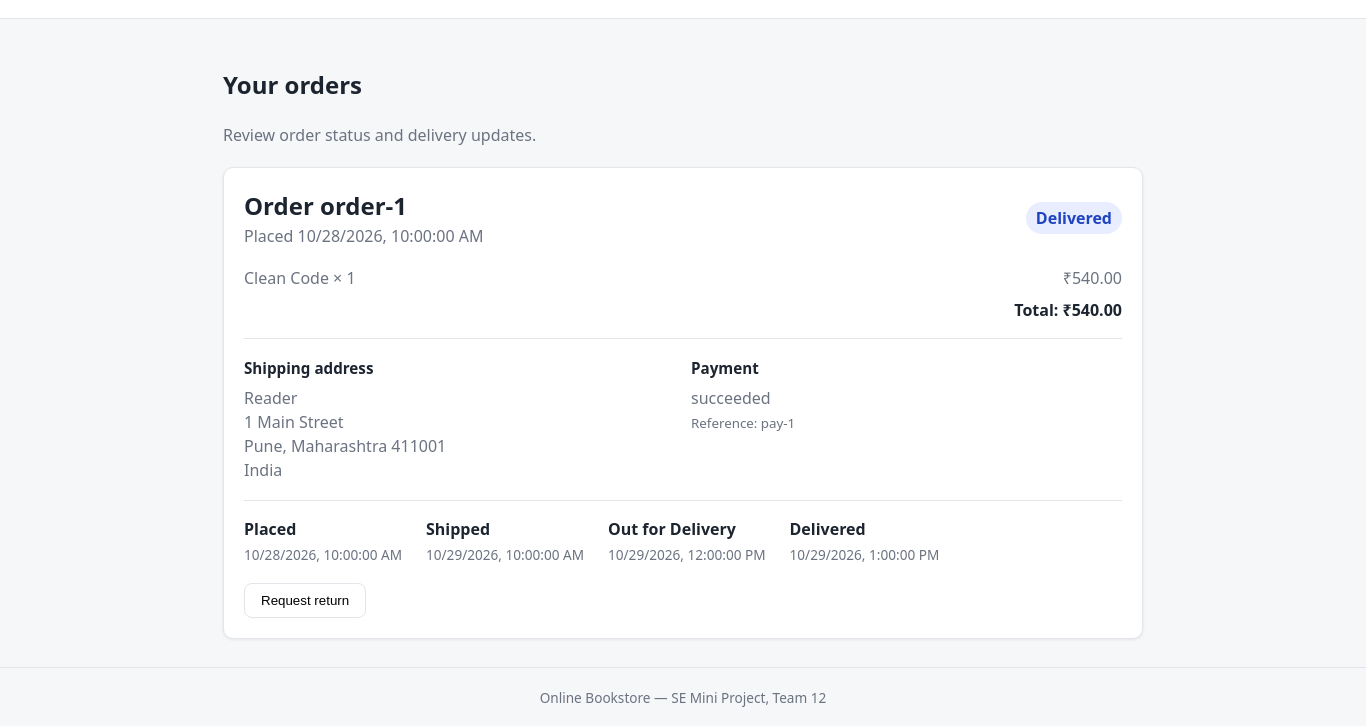
it: catalogue frontend › lets a buyer request a return for a delivered order
Click the button "Request return".
click(305, 600)  # box [244,583,366,618]
(page scrolled)
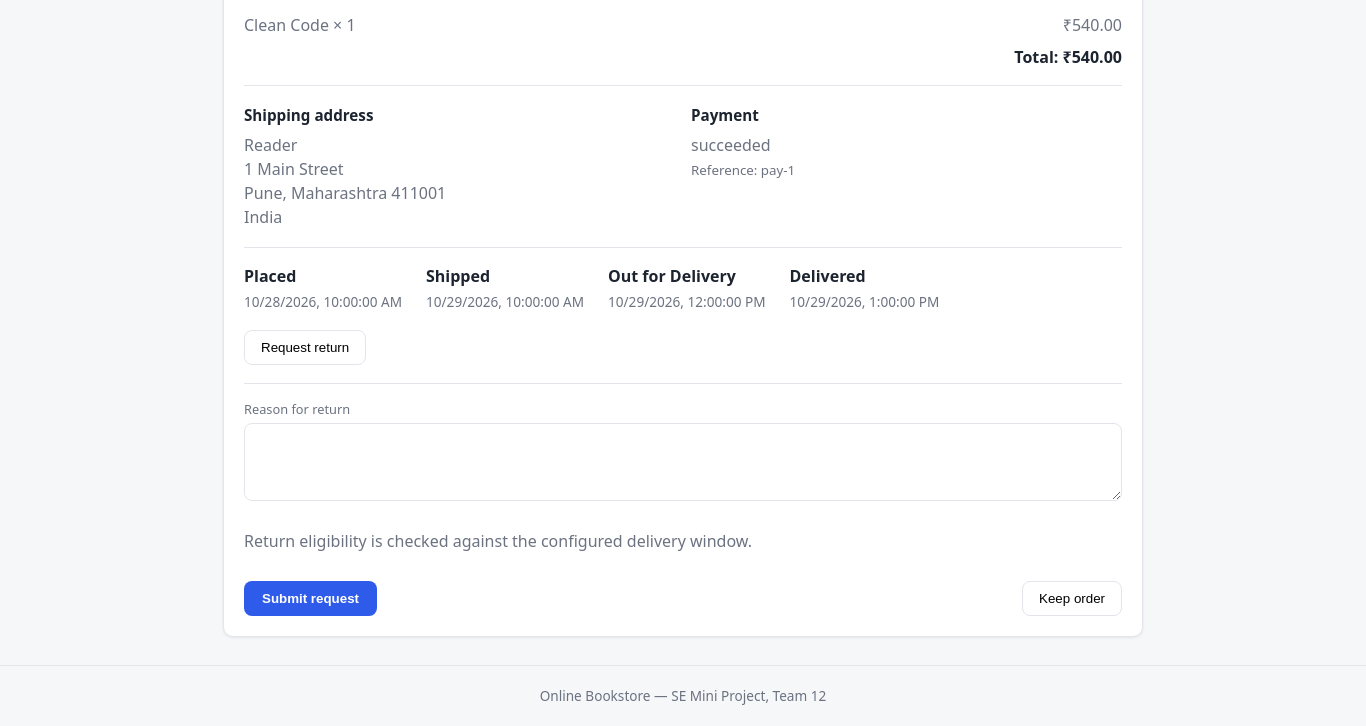
Type "The book arrived damaged" into the text box labelled "Reason for return".
click(683, 462); type("The book arrived damaged")  # box [244,423,1122,501]
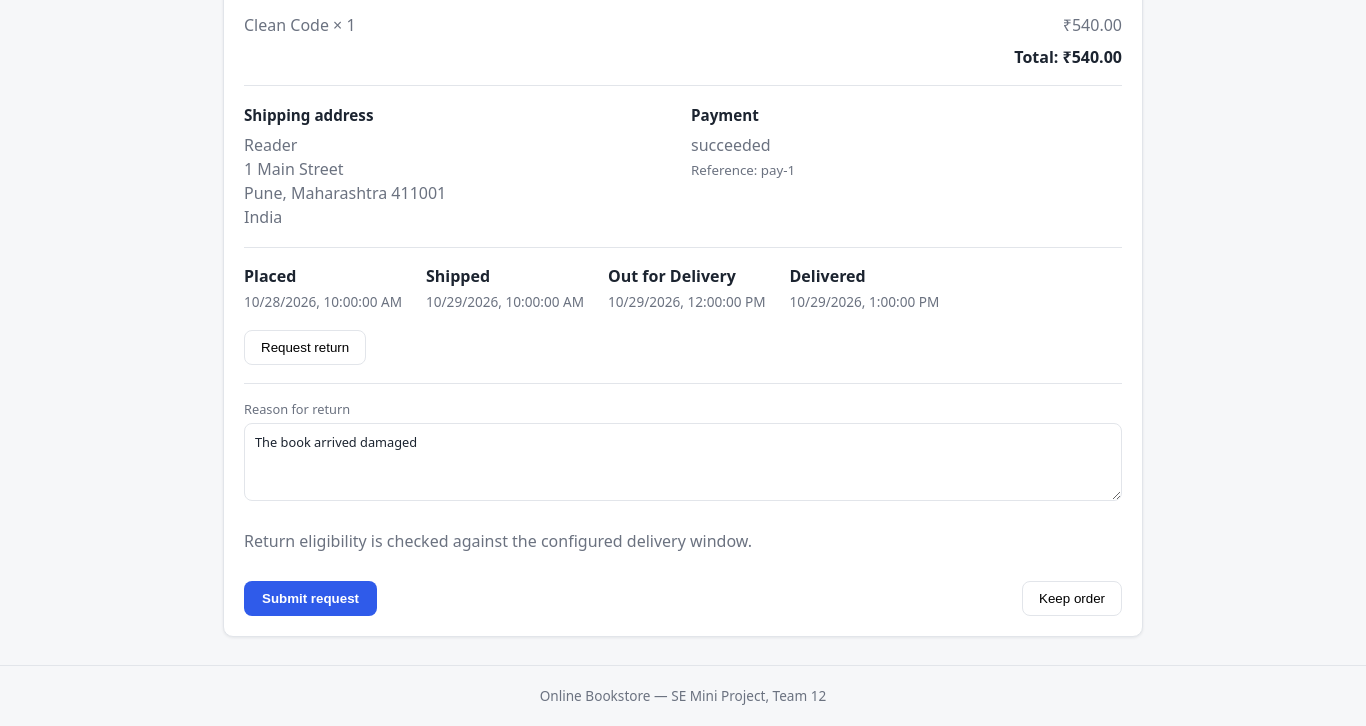
Click the button "Submit request".
click(310, 598)  # box [244,581,377,616]
(page scrolled)
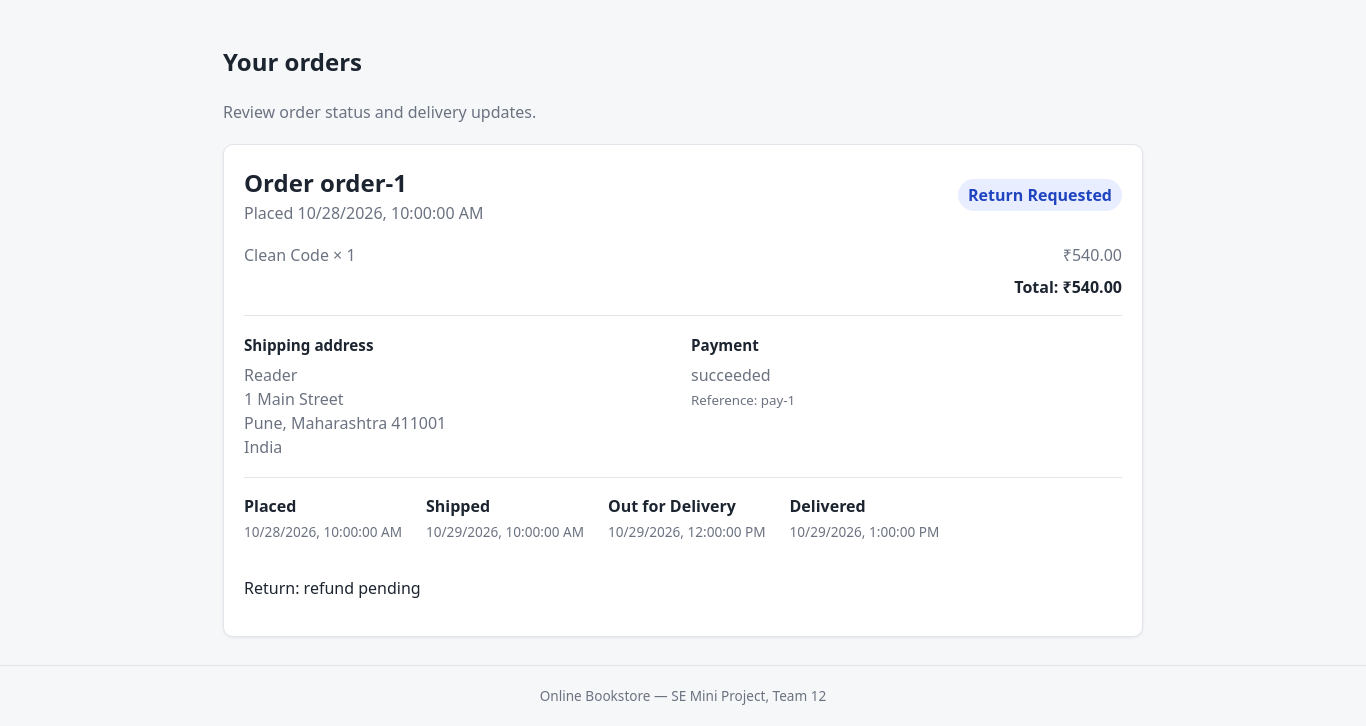
Result: the text "Return: refund pending" is shown at [244,577,421,599]
